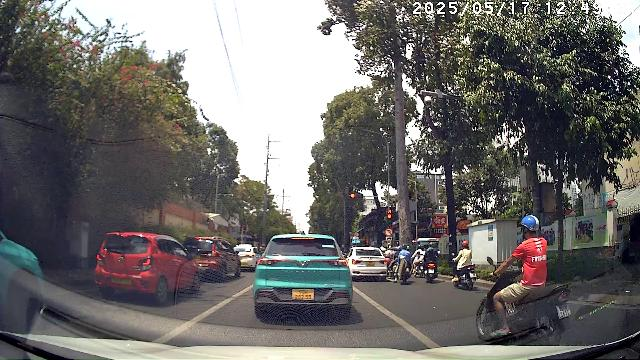123a-cam-re-trai: (384, 227, 394, 236)
